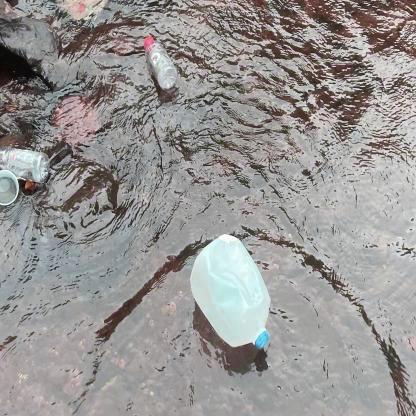Plastic: (186, 228, 276, 360), (0, 145, 51, 206), (142, 34, 179, 96)
